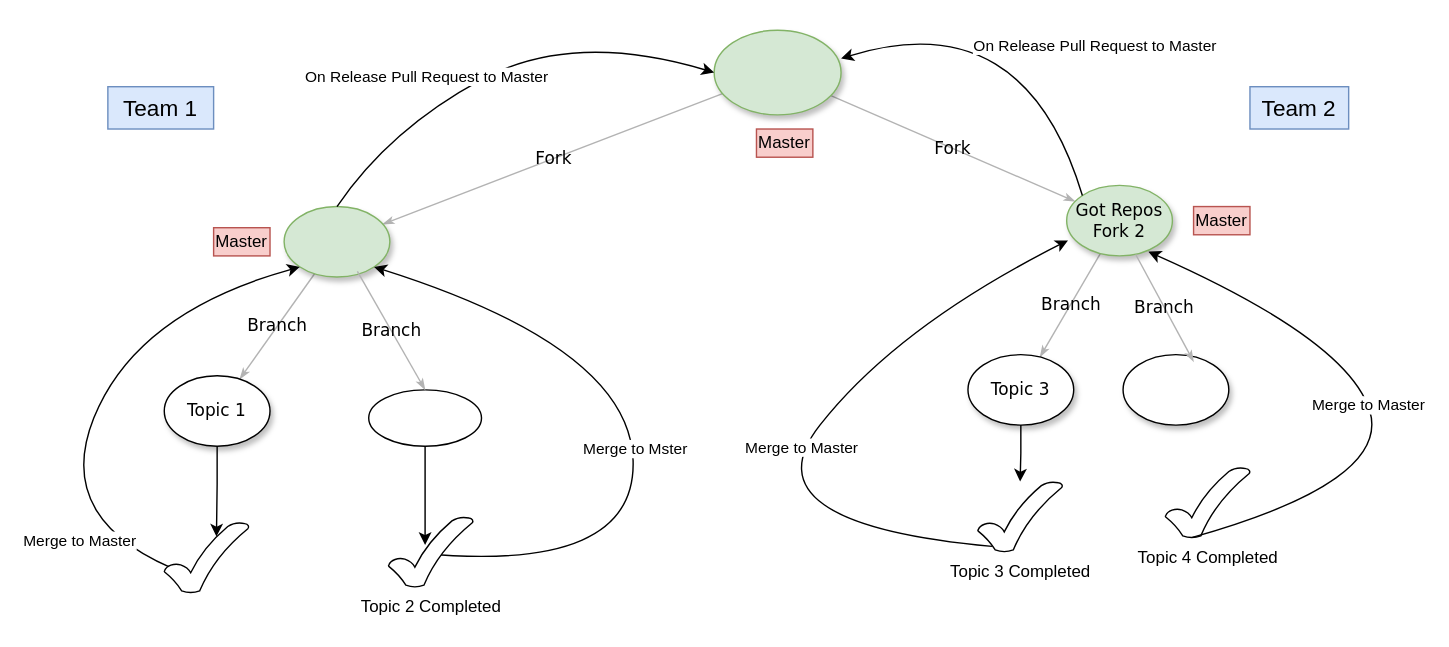
The diagram is 1449 pixels wide and 647 high, and some of its shapes have lost their labels. The shapes that lost their labels are listed below. From the top down, each one's centre as x and y in pixels, then its label:
At point 778,74: "Git Repository (Master)".
At point 337,243: "Git Repos Fork 1".
At point 1176,391: "Topic 4".
At point 424,417: "Topic 2".
At point 206,557: "Topic 1 Completed".
